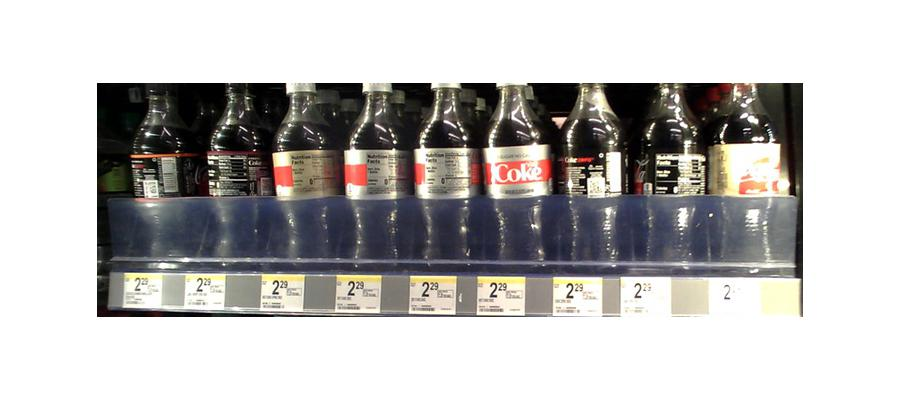bottle: (714, 78, 786, 267), (635, 77, 705, 268), (124, 87, 198, 265), (271, 81, 340, 264), (486, 80, 553, 267), (345, 81, 409, 265), (563, 77, 624, 269), (416, 80, 478, 266), (204, 79, 266, 264)
